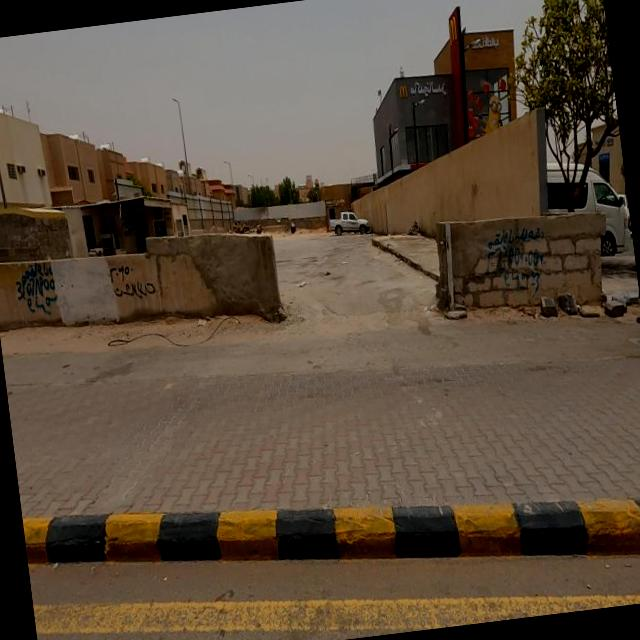debris: (440, 161, 600, 342), (52, 220, 206, 364), (0, 226, 89, 339)
